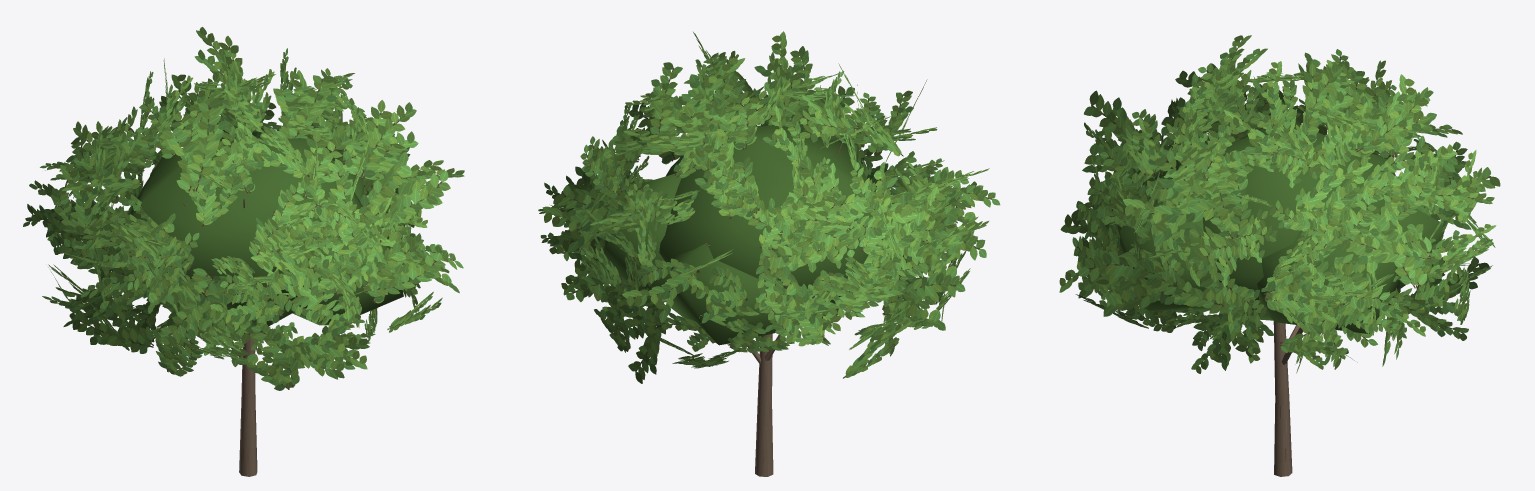
Rendered from CERCIS_1.glb.
3 renders of one model, left to right at view 1: azimuth 30°, elevation 25°; view 2: azimuth 150°, elevation 25°; view 3: azimuth 270°, elevation 25°, orthographic. The views are drawn at different scales.
Parts seen in each view (by area): view 1: Arv_CERCIS_lod1; view 2: Arv_CERCIS_lod1; view 3: Arv_CERCIS_lod1.
Boxes of the visible parts, x1,y1,x2,y2 form: Arv_CERCIS_lod1: (23,27,464,476); Arv_CERCIS_lod1: (538,31,1000,476); Arv_CERCIS_lod1: (1059,35,1500,476).
Size of the model in its own units: 11.39 by 10.69 by 11.03.
Materials: 3 (2 with a texture image).
